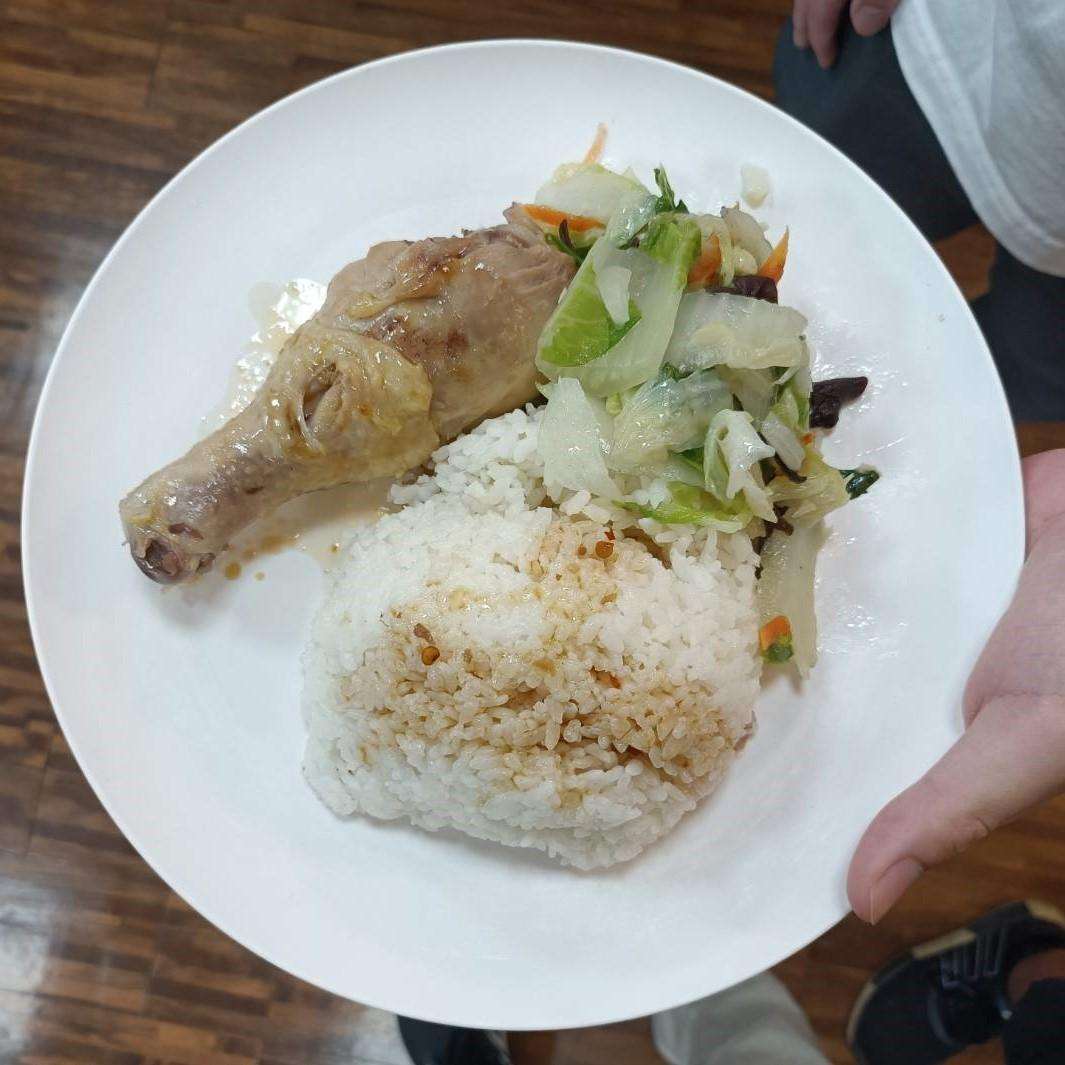big fried chicken leg: (31, 18, 1060, 1031)
big herbal chicken leg: (302, 450, 768, 889)
braised fish fillet: (551, 150, 862, 555)
braised pork: (104, 176, 608, 605)
